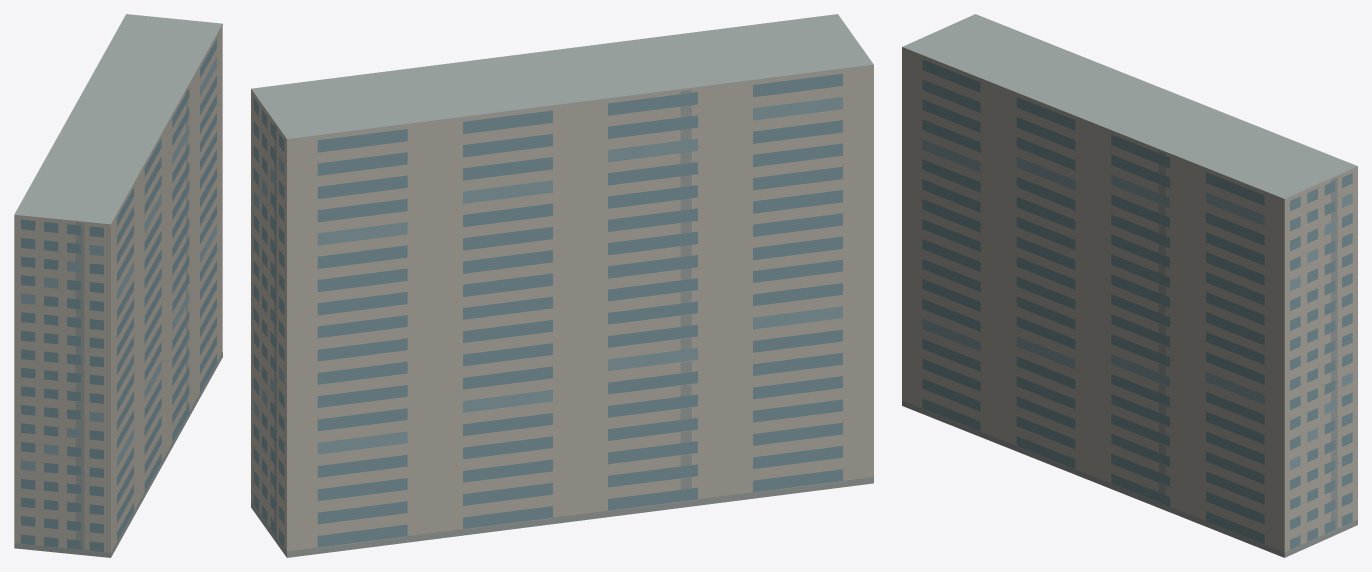
The model's file is residential-941771ad-6a2d-471d-a9a7-5dbd97bc7a9c.glb.
3 views of the same model, side by side, from view 1: azimuth 30°, elevation 25°; view 2: azimuth 150°, elevation 25°; view 3: azimuth 270°, elevation 25° (orthographic). The views are drawn at different scales.
Visible parts, largest first — view 1: residential-941771ad-6a2d-471d-a9a7-5dbd97bc7a9c.tmp; view 2: residential-941771ad-6a2d-471d-a9a7-5dbd97bc7a9c.tmp; view 3: residential-941771ad-6a2d-471d-a9a7-5dbd97bc7a9c.tmp.
Boxes of the visible parts, box(x1,y1,x2,y2) form: residential-941771ad-6a2d-471d-a9a7-5dbd97bc7a9c.tmp: box(14, 14, 222, 557); residential-941771ad-6a2d-471d-a9a7-5dbd97bc7a9c.tmp: box(251, 14, 873, 557); residential-941771ad-6a2d-471d-a9a7-5dbd97bc7a9c.tmp: box(902, 14, 1357, 557).
Size of the model in its own units: 53.06 by 48 by 55.23.
